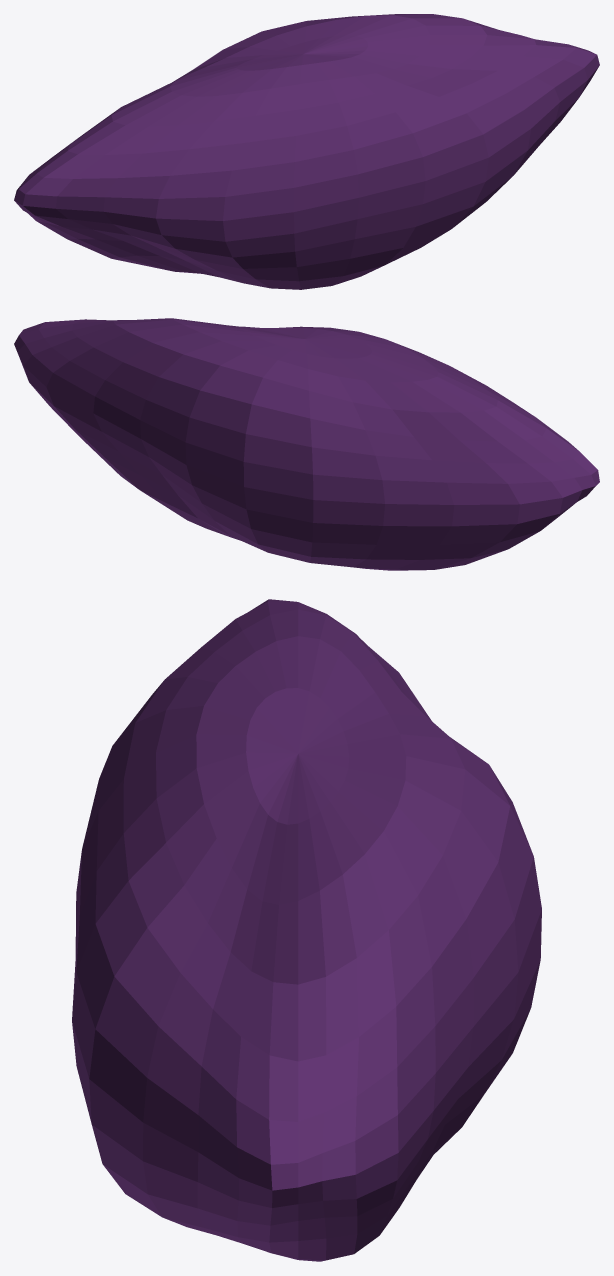
The model's file is ube_whole.glb.
3 views of the same model, one above another, from view 1: azimuth 30°, elevation 25°; view 2: azimuth 150°, elevation 25°; view 3: azimuth 270°, elevation 25° (orthographic). The views are drawn at different scales.
Parts seen in each view (by area): view 1: ube_whole; view 2: ube_whole; view 3: ube_whole.
Part boxes in pixels (left/top/right/bottom): ube_whole: left=14, top=14, right=599, bottom=289; ube_whole: left=14, top=318, right=599, bottom=570; ube_whole: left=72, top=599, right=541, bottom=1261.
Size of the model in its own units: 1.22 by 0.4428 by 0.4299.
